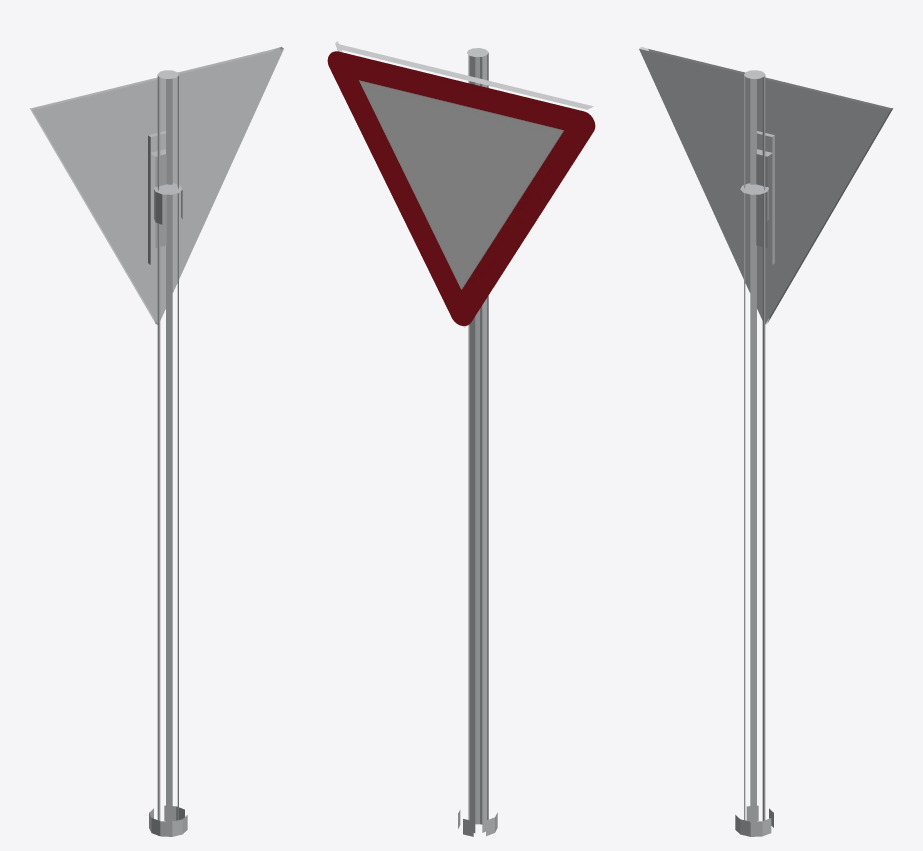
File: sign_give_way.glb
3 renders of one model, left to right at view 1: azimuth 30°, elevation 25°; view 2: azimuth 150°, elevation 25°; view 3: azimuth 330°, elevation 25°, orthographic. The views are drawn at different scales.
Parts seen in each view (by area): view 1: sign_give_way; view 2: sign_give_way; view 3: sign_give_way.
Part boxes in pixels (<box>): sign_give_way: <box>29,46,283,836</box>; sign_give_way: <box>327,41,595,836</box>; sign_give_way: <box>639,46,893,836</box>.
Size of the model in its own units: 0.95 by 2.53 by 0.1487.
5 materials, 1 textured.
